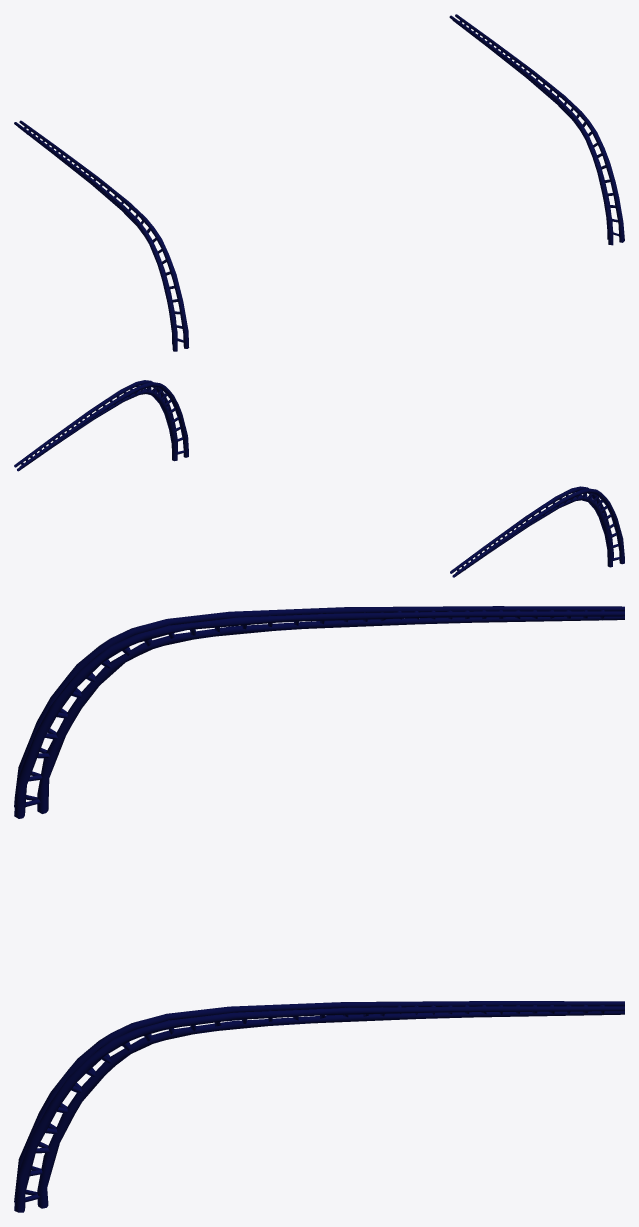
Rendered from Al_Nasar_Football_Stadium_NurbsPath_024.FBX.
3 views of the same model, one above another, from view 1: azimuth 30°, elevation 25°; view 2: azimuth 150°, elevation 25°; view 3: azimuth 270°, elevation 25° (orthographic). The views are drawn at different scales.
Parts seen in each view (by area): view 1: Al_Nasar_Football_Stadium_NurbsPath_024; view 2: Al_Nasar_Football_Stadium_NurbsPath_024; view 3: Al_Nasar_Football_Stadium_NurbsPath_024.
Part boxes in pixels (left/top/right/bottom): Al_Nasar_Football_Stadium_NurbsPath_024: left=14, top=14, right=624, bottom=351; Al_Nasar_Football_Stadium_NurbsPath_024: left=14, top=380, right=624, bottom=577; Al_Nasar_Football_Stadium_NurbsPath_024: left=14, top=606, right=624, bottom=1212.
Bounding box in the file's own units: 10459 × 6593 × 2418.
